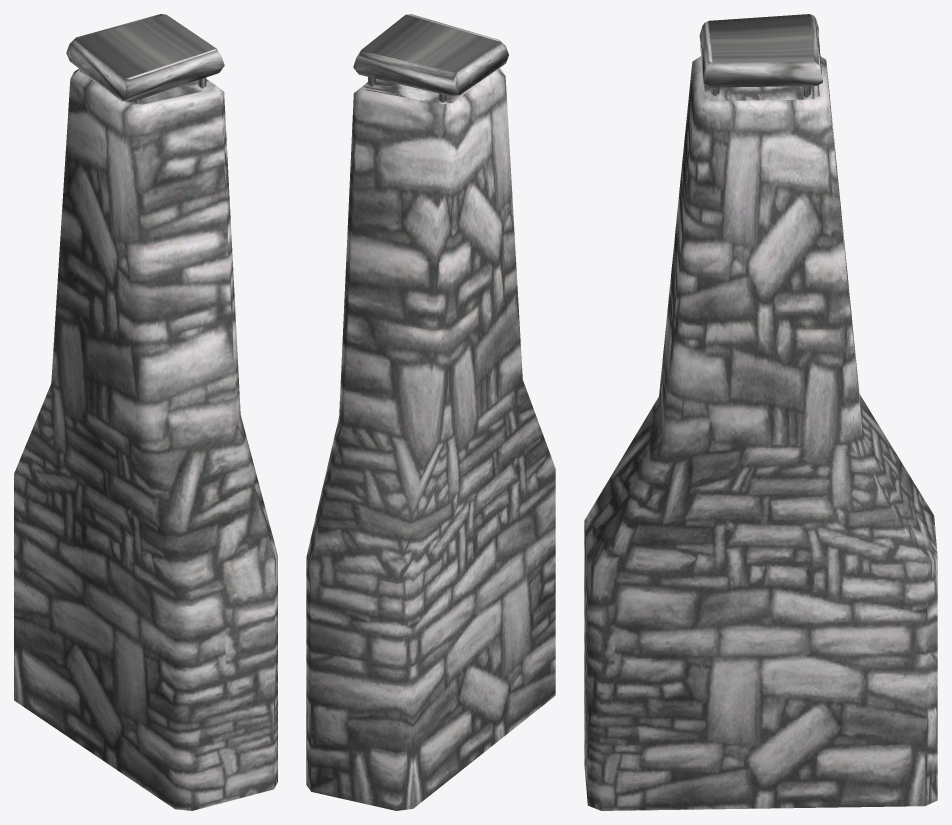
Rendered from HTOWN01_GREENDRAGROOFCHIM1.fbx.
The picture shows the model from 3 angles, left to right: view 1: azimuth 30°, elevation 25°; view 2: azimuth 150°, elevation 25°; view 3: azimuth 270°, elevation 25°; orthographic projection. The views are drawn at different scales.
Parts seen in each view (by area): view 1: HTOWN01_GREENDRAGROOFCHIM1; view 2: HTOWN01_GREENDRAGROOFCHIM1; view 3: HTOWN01_GREENDRAGROOFCHIM1.
Part boxes in pixels (<box>): HTOWN01_GREENDRAGROOFCHIM1: <box>14,14,277,810</box>; HTOWN01_GREENDRAGROOFCHIM1: <box>306,14,555,810</box>; HTOWN01_GREENDRAGROOFCHIM1: <box>584,14,937,810</box>.
Size of the model in its own units: 8873 by 51790 by 22336.
Materials: 1 (1 with a texture image).
